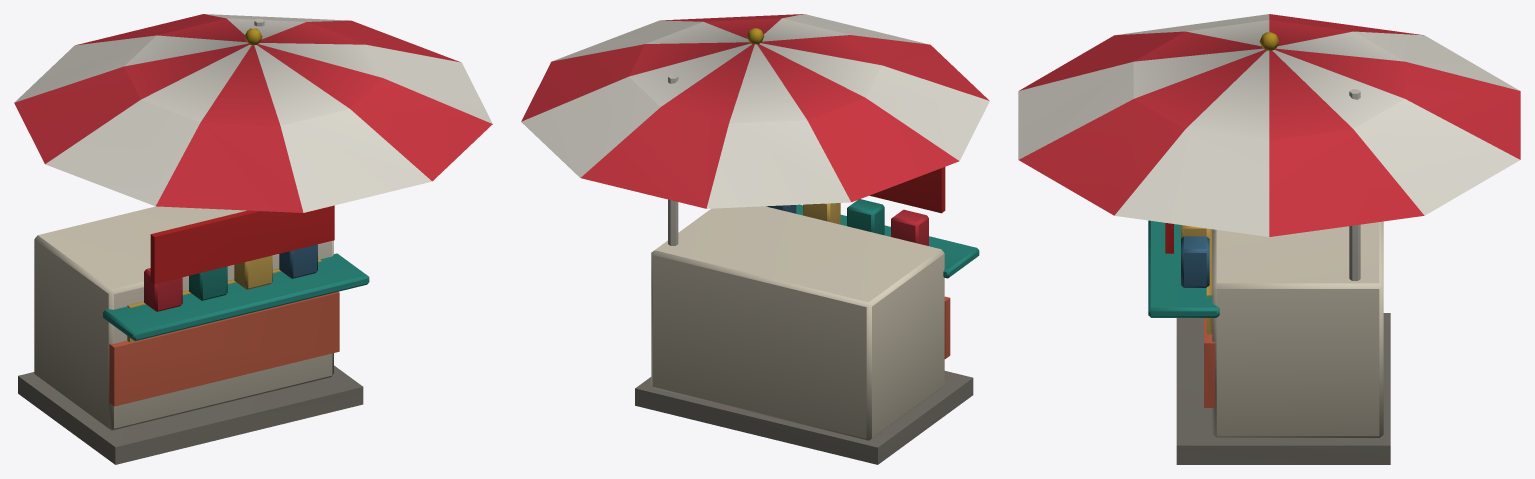
The model's file is kiosko_sombrilla.glb.
The picture shows the model from 3 angles, left to right: view 1: azimuth 30°, elevation 25°; view 2: azimuth 150°, elevation 25°; view 3: azimuth 270°, elevation 25°; orthographic projection. The views are drawn at different scales.
Parts seen in each view (by area): view 1: kiosko_sombrilla; view 2: kiosko_sombrilla; view 3: kiosko_sombrilla.
Boxes of the visible parts, x1,y1,x2,y2 form: kiosko_sombrilla: (14,14,492,464); kiosko_sombrilla: (521,14,989,464); kiosko_sombrilla: (1018,14,1520,464).
Bounding box in the file's own units: 3.7 × 3.07 × 3.52.
